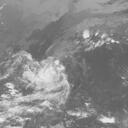cyclone: (22, 55, 71, 100)
